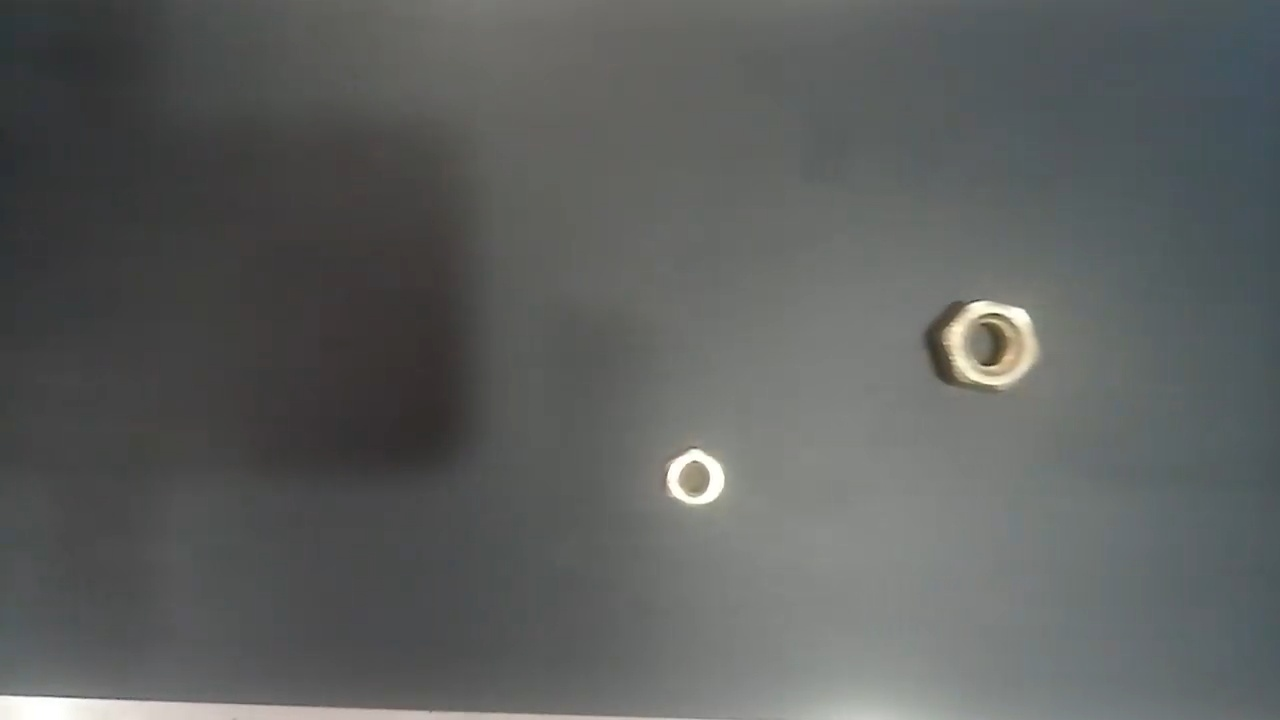Bolt: (938, 300, 1043, 396), (664, 447, 727, 506)
